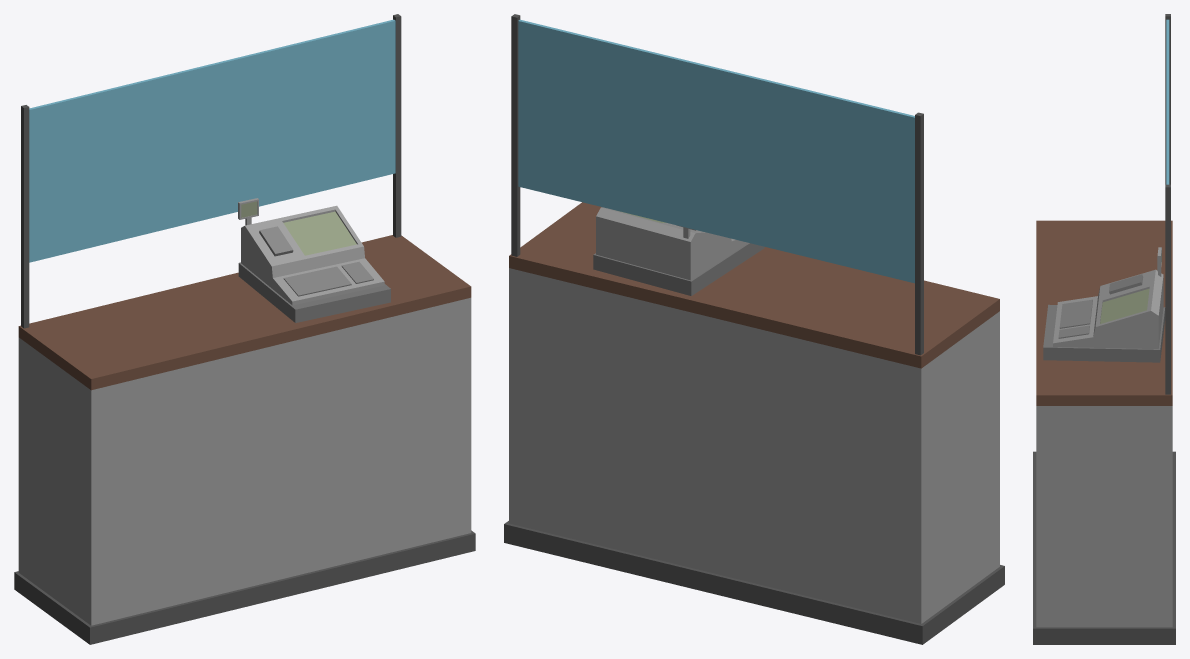
File: SM_Props_CashRegister_01.fbx
3 renders of one model, left to right at view 1: azimuth 30°, elevation 25°; view 2: azimuth 150°, elevation 25°; view 3: azimuth 270°, elevation 25°, orthographic. The views are drawn at different scales.
Parts seen in each view (by area): view 1: SM_Props_CashRegister_01; view 2: SM_Props_CashRegister_01; view 3: SM_Props_CashRegister_01.
Boxes of the visible parts, box(x1,y1,x2,y2) form: SM_Props_CashRegister_01: box(14, 14, 475, 644); SM_Props_CashRegister_01: box(504, 14, 1004, 644); SM_Props_CashRegister_01: box(1033, 14, 1175, 644).
Bounding box in the file's own units: 1.53 × 1.84 × 0.5211.
